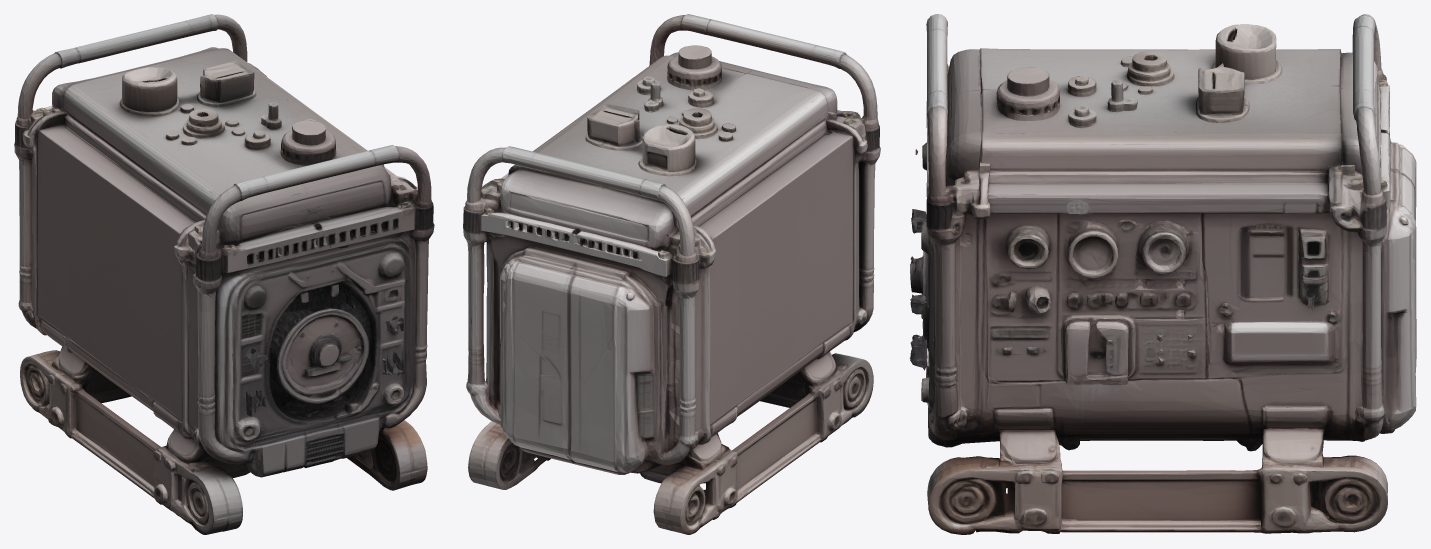
The picture shows the model from 3 angles, left to right: view 1: azimuth 30°, elevation 25°; view 2: azimuth 150°, elevation 25°; view 3: azimuth 270°, elevation 25°; orthographic projection. The views are drawn at different scales.
Parts seen in each view (by area): view 1: world; view 2: world; view 3: world.
Part boxes in pixels (left/top/right/bottom): world: left=14, top=14, right=434, bottom=534; world: left=463, top=14, right=880, bottom=534; world: left=909, top=14, right=1416, bottom=534.
Size of the model in its own units: 0.6467 by 0.9011 by 0.9913.
Materials: 1 (1 with a texture image).
